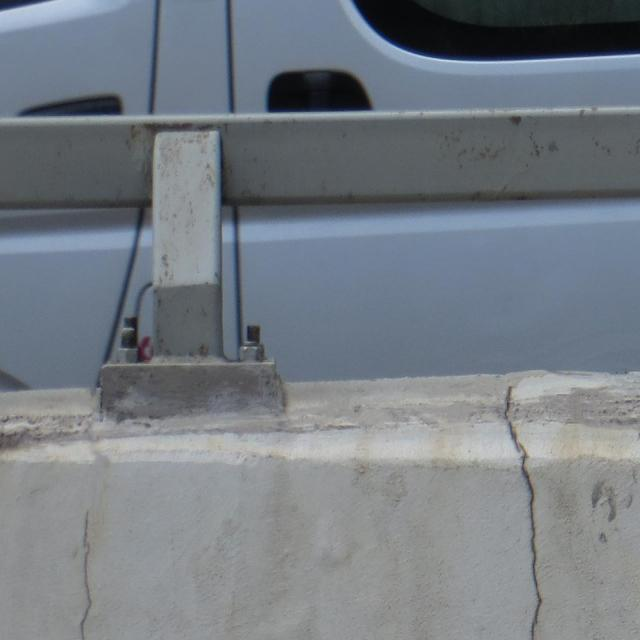vertical crack: (502, 386, 542, 639), (78, 508, 94, 639)
